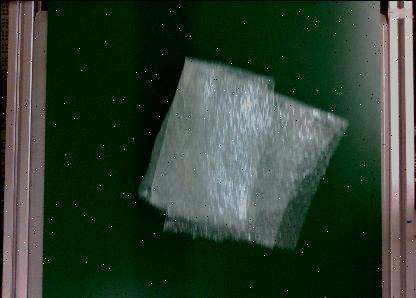Others: (136, 53, 350, 251)
